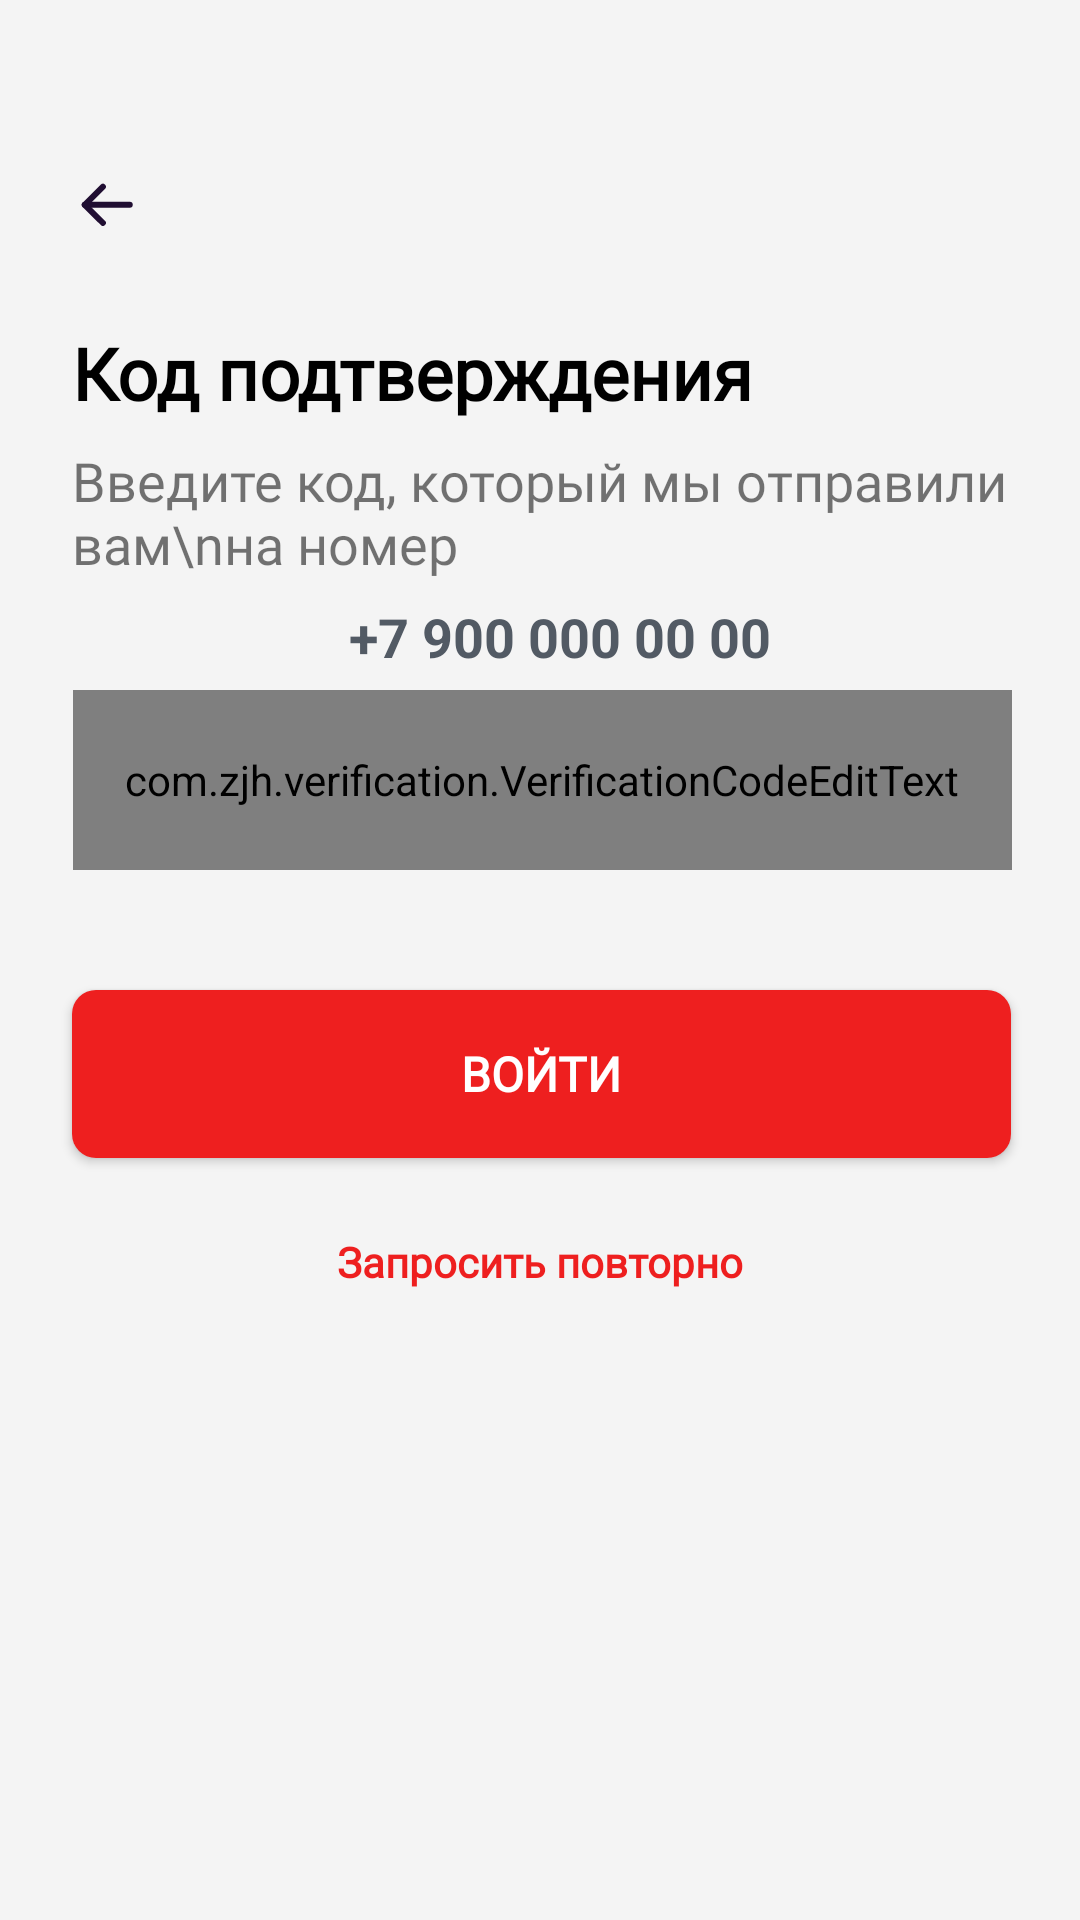

Locate icon controls on the screen. Image size 1080×1920, boxes as Rect(x1, y1, x2, y2).
left: Rect(81, 183, 133, 226)
